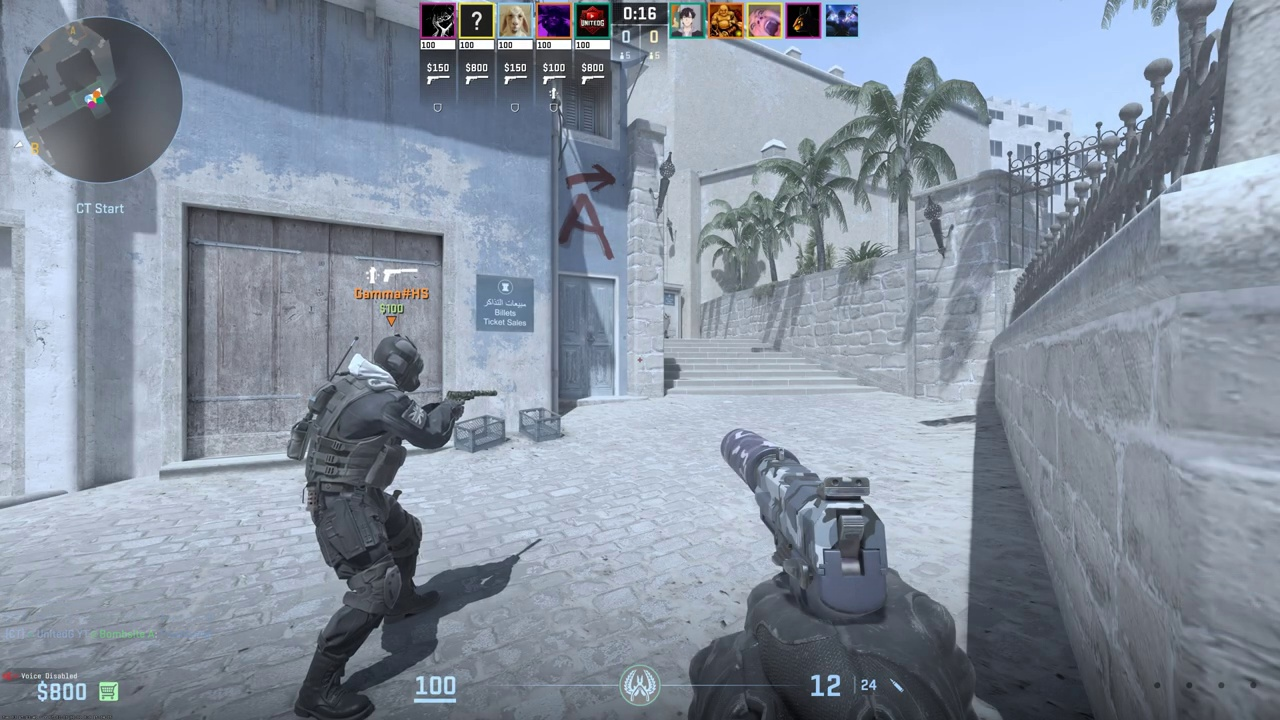CT: (291, 338, 448, 714)
